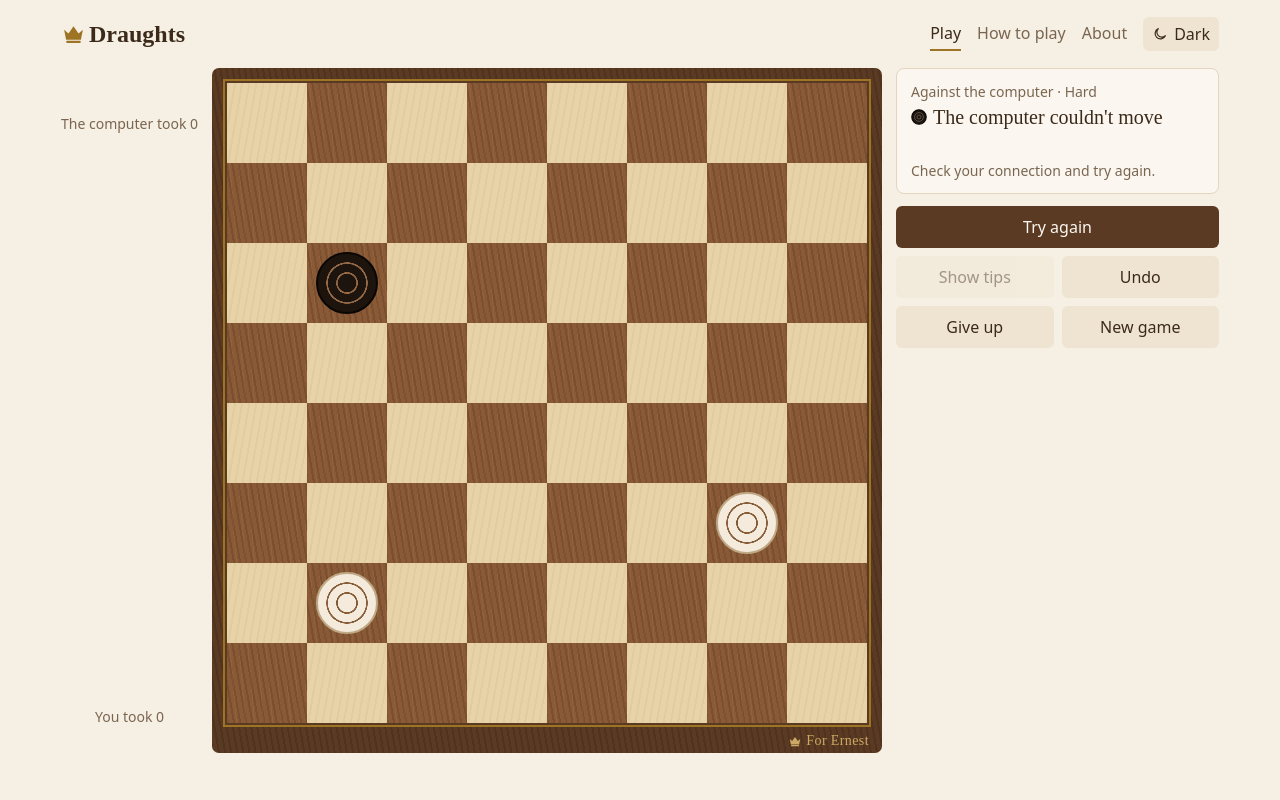
Test: when the computer's move fails › keeps Undo, which removes the person's move, as the computer has not replied (spec section 6.1.7, item 4)
The image size is (1280, 800).
Expected: the text "The computer couldn't move" is shown, [933,104,1163,130]
Click the button "Undo" at [1140, 277], box [1062,256,1219,298]
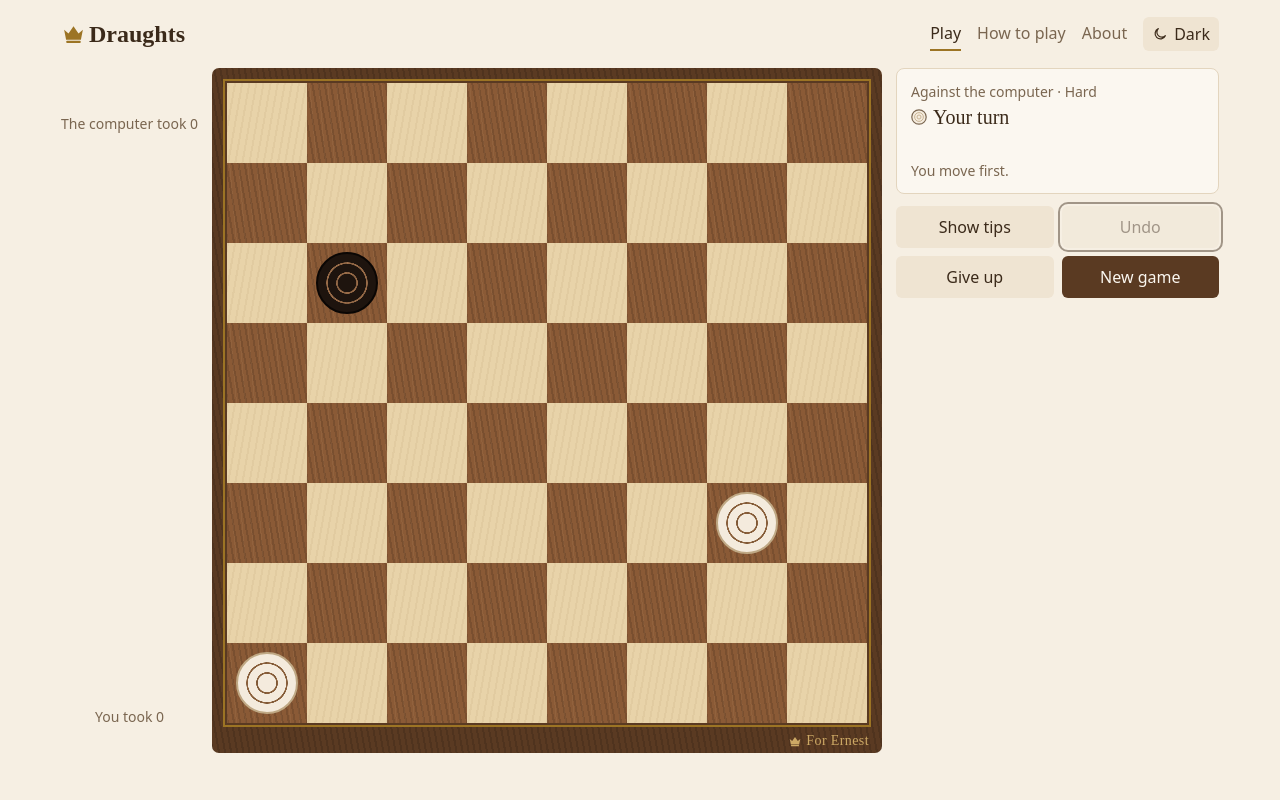
Now the cell named "Row 8, column 1, your man" is shown, box [227,643,307,723]
Now the text "Your turn" is shown, box [933,104,1009,130]
